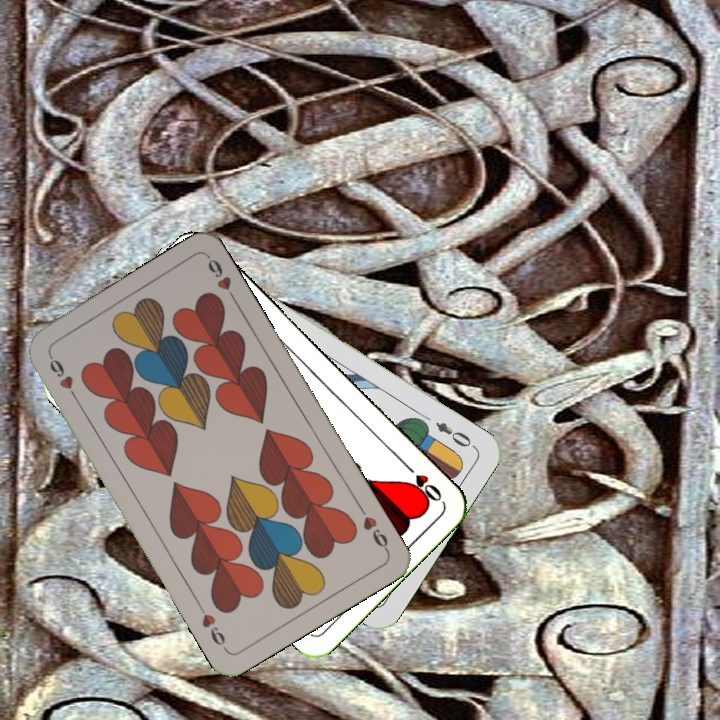EO: (431, 418, 478, 451)
H9: (44, 350, 81, 404), (355, 501, 391, 555)
HO: (399, 458, 445, 506)
